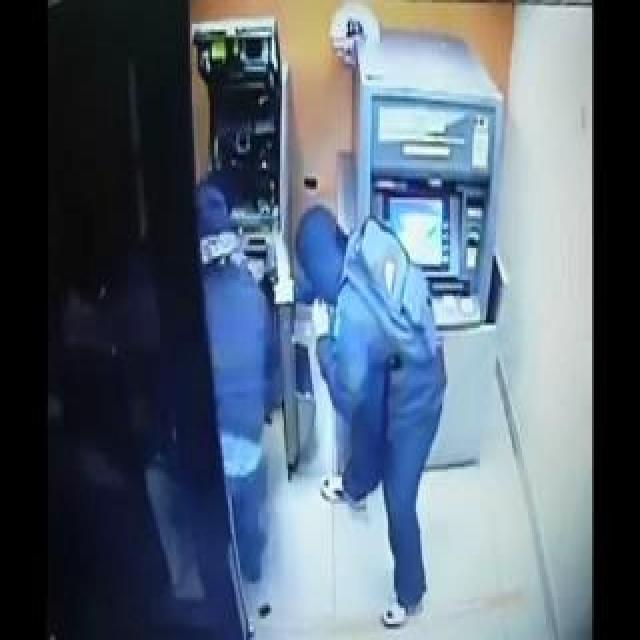thief: (172, 168, 364, 346)
